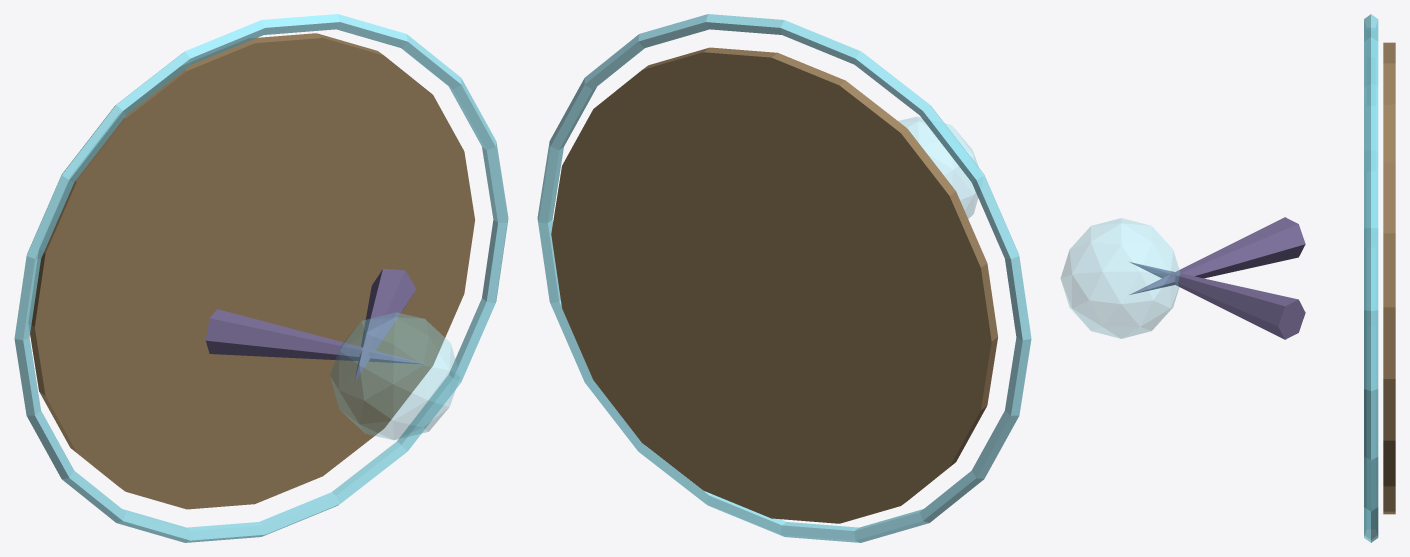
File: 07_weather_terrain_nature_effect.glb
3 views of the same model, side by side, from view 1: azimuth 30°, elevation 25°; view 2: azimuth 150°, elevation 25°; view 3: azimuth 270°, elevation 25° (orthographic). The views are drawn at different scales.
Visible parts, largest first — view 1: terrain_patch, weather_boundary, weather_orb, root_spike_l, root_spike_r; view 2: terrain_patch, weather_boundary, weather_orb; view 3: weather_orb, weather_boundary, terrain_patch, root_spike_r, root_spike_l.
Boxes of the visible parts, x1=… form: terrain_patch: x1=29, y1=33, x2=474, y2=509; weather_boundary: x1=14, y1=14, x2=508, y2=542; weather_orb: x1=330, y1=312, x2=459, y2=439; root_spike_l: x1=205, y1=309, x2=425, y2=364; root_spike_r: x1=354, y1=268, x2=416, y2=381; terrain_patch: x1=551, y1=47, x2=997, y2=523; weather_boundary: x1=537, y1=14, x2=1031, y2=542; weather_orb: x1=898, y1=117, x2=978, y2=218; weather_orb: x1=1060, y1=218, x2=1180, y2=338; weather_boundary: x1=1364, y1=14, x2=1378, y2=542; terrain_patch: x1=1383, y1=42, x2=1395, y2=514; root_spike_r: x1=1130, y1=262, x2=1305, y2=339; root_spike_l: x1=1130, y1=217, x2=1305, y2=294.
Size of the model in its own units: 1.75 by 1.75 by 1.1.
